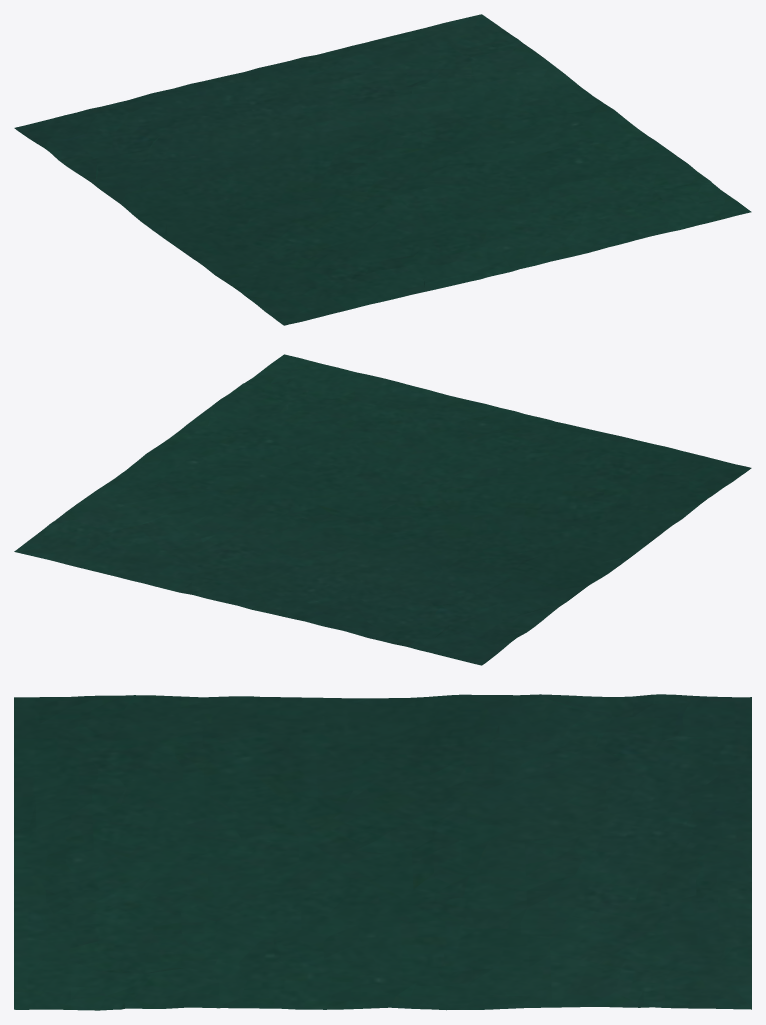
The picture shows the model from 3 angles, top to bottom: view 1: azimuth 30°, elevation 25°; view 2: azimuth 150°, elevation 25°; view 3: azimuth 270°, elevation 25°; orthographic projection. The views are drawn at different scales.
Size of the model in its own units: 104 by 0.8134 by 104.
Materials: 2 (2 with a texture image).
